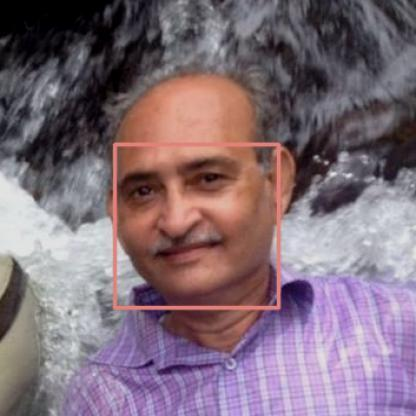without_mask: (114, 144, 278, 307)
